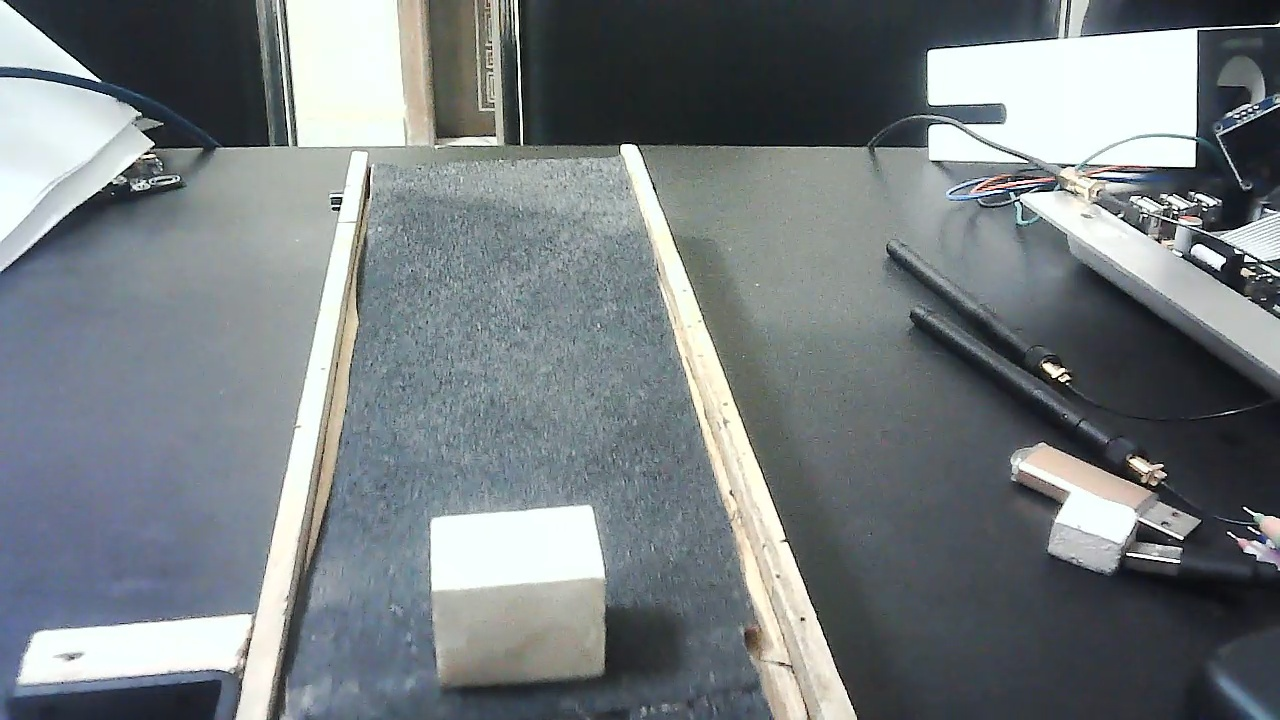Medium: (429, 504, 607, 682)
